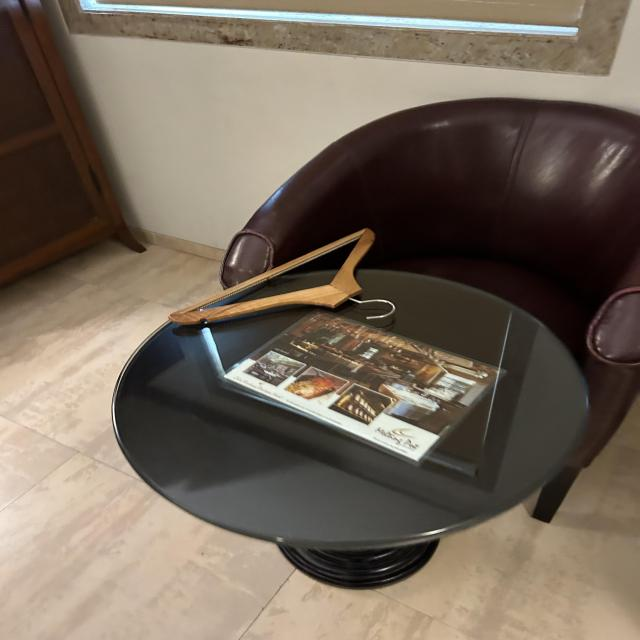mess: (86, 208, 608, 602)
